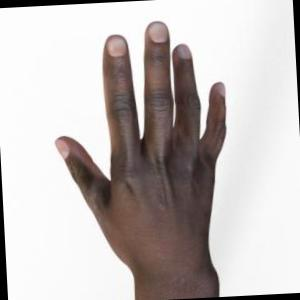paper: (55, 21, 225, 300)
